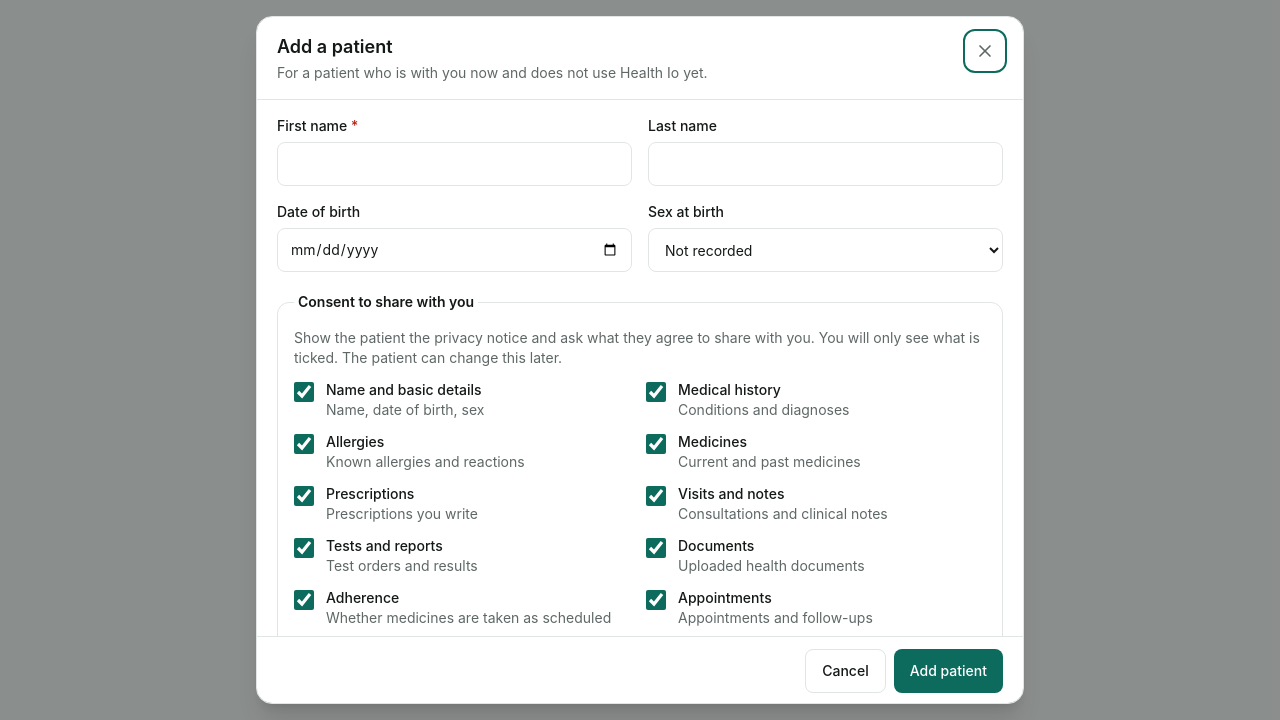
Test: AddPatientDialog › requires the doctor to confirm the patient's consent
In the field labelled "First name *": (454, 164) x1=277 y1=142 x2=632 y2=186, type "Placeholder"
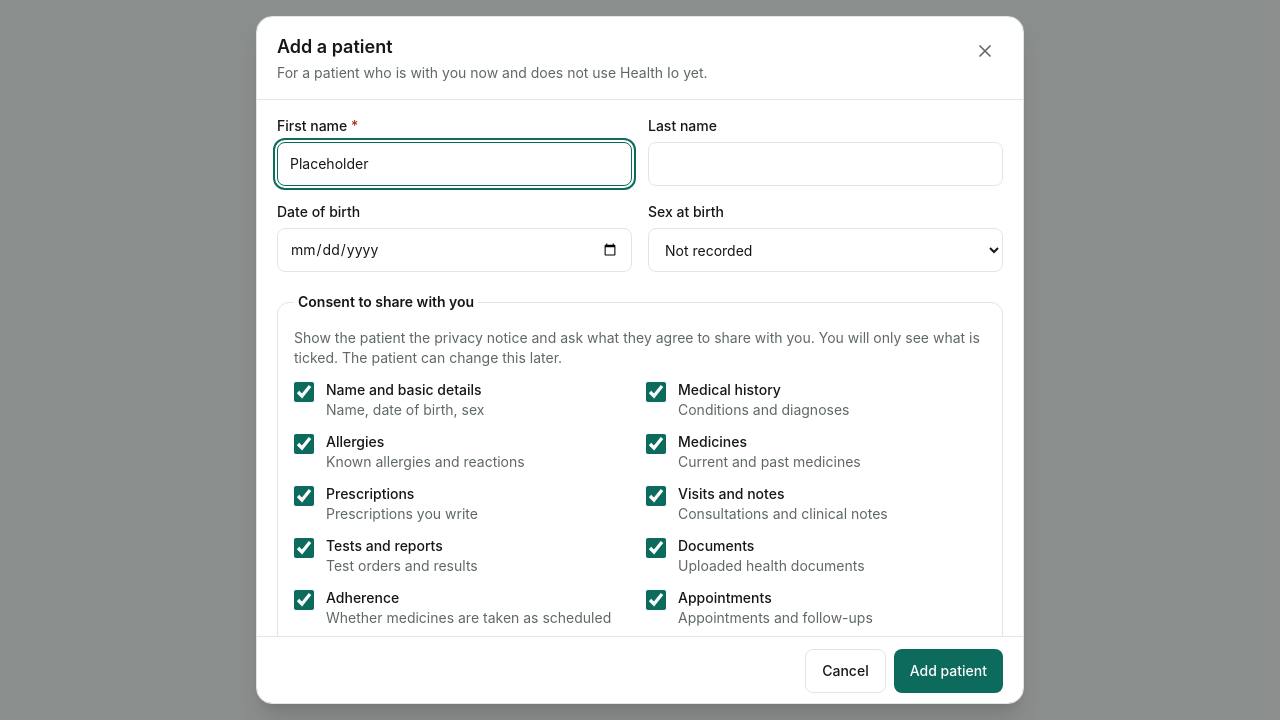
Click the button "Add patient": (948, 671) x1=894 y1=649 x2=1003 y2=693
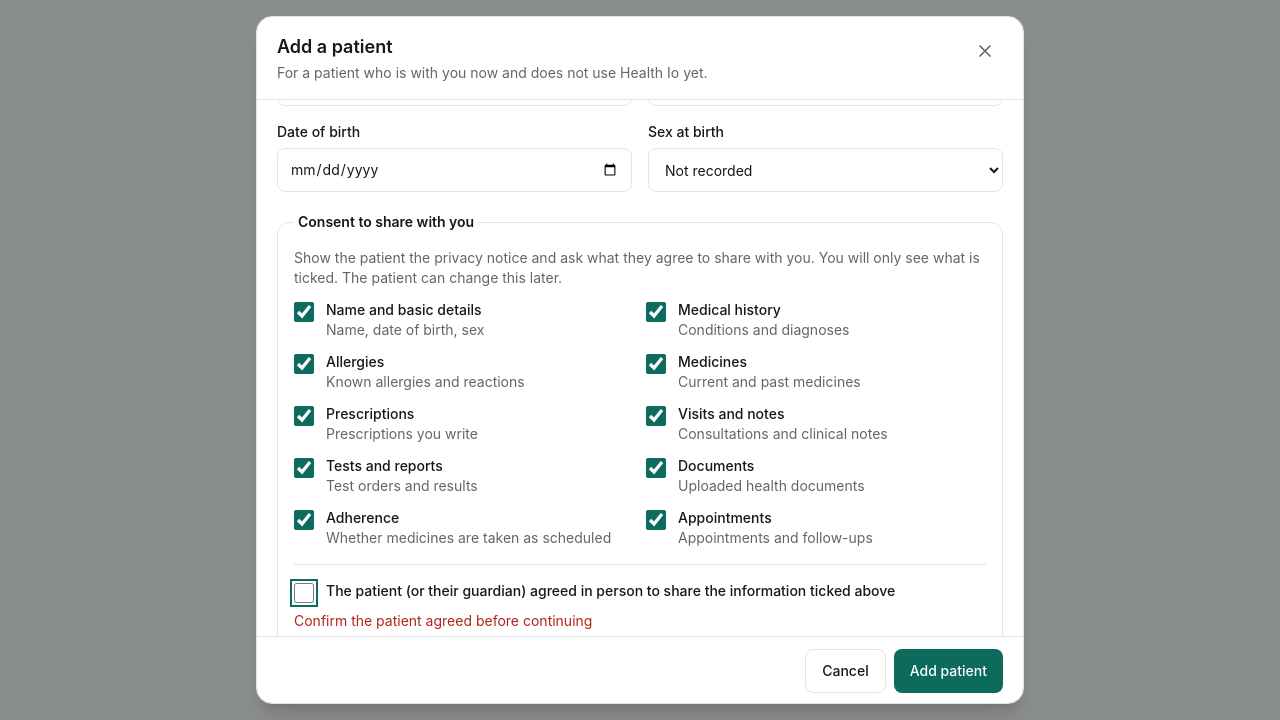
Expected: the text "Confirm the patient agreed before continuing" is shown, x1=294 y1=612 x2=592 y2=629
